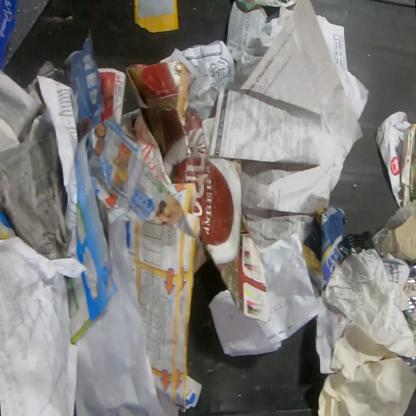cardboard: (125, 60, 271, 324), (300, 204, 346, 298), (381, 215, 415, 264), (399, 356, 415, 375)
rigid_plastic: (401, 262, 415, 346), (338, 230, 374, 258)
soft_plastic: (3, 0, 52, 70), (370, 197, 416, 256)
